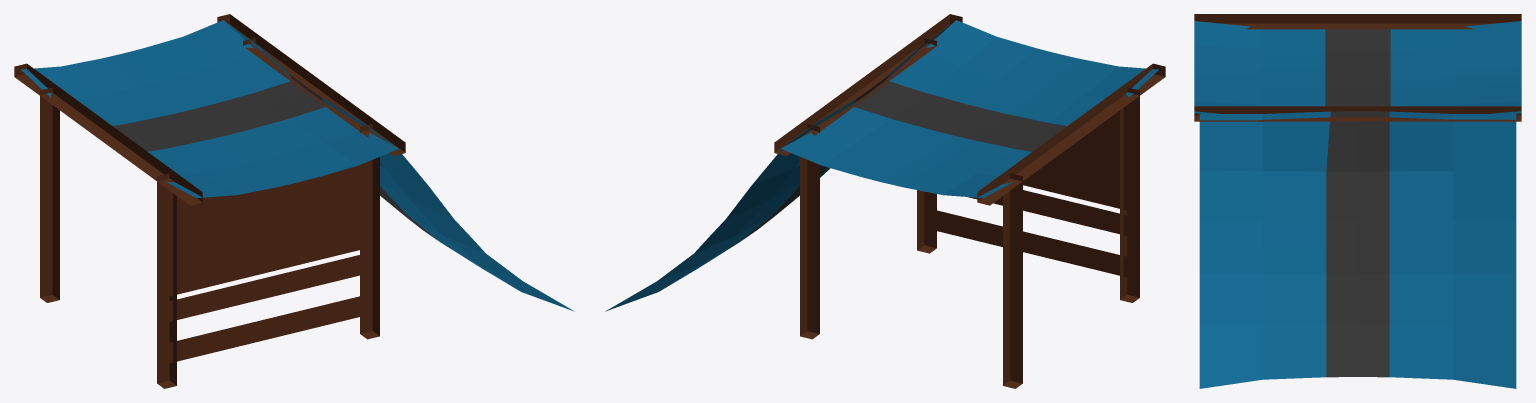
Rendered from AlmacenGuerreros.fbx.
The picture shows the model from 3 angles, left to right: view 1: azimuth 30°, elevation 25°; view 2: azimuth 150°, elevation 25°; view 3: azimuth 270°, elevation 25°; orthographic projection. The views are drawn at different scales.
Parts seen in each view (by area): view 1: Almacen.001; view 2: Almacen.001; view 3: Almacen.001.
Boxes of the visible parts, x1,y1,x2,y2 form: Almacen.001: (14,14,574,388); Almacen.001: (605,14,1165,388); Almacen.001: (1194,14,1521,388).
Bounding box in the file's own units: 383 × 201 × 300.
